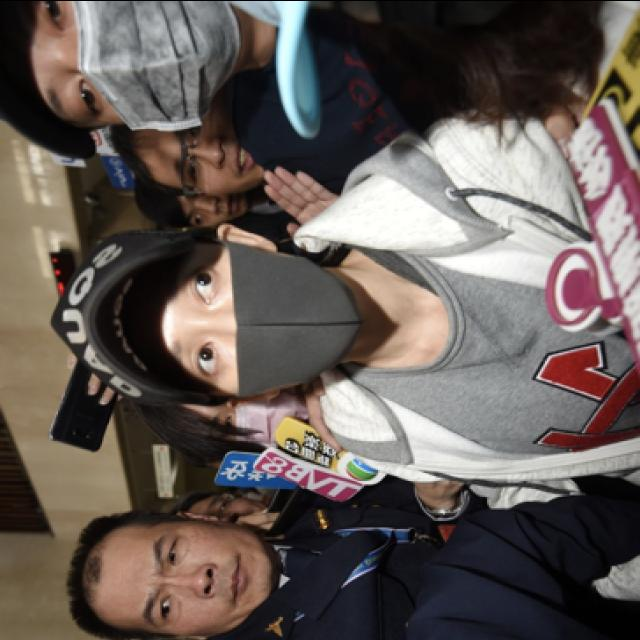with_mask: (154, 240, 358, 394), (34, 0, 238, 128), (209, 387, 313, 451)
without_mask: (134, 518, 272, 634), (166, 107, 274, 197), (182, 184, 252, 222)
